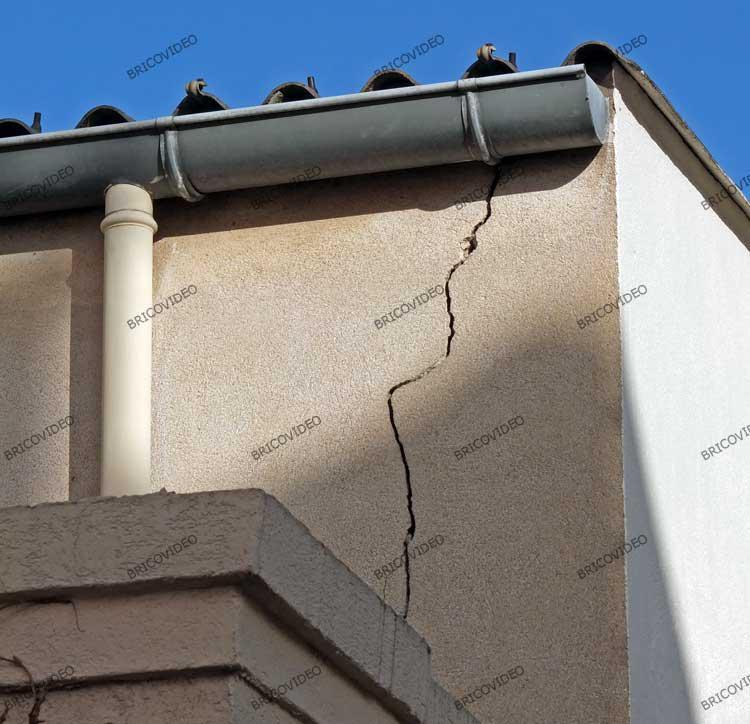crack: (387, 165, 507, 620), (1, 598, 87, 633), (29, 675, 85, 724), (0, 700, 16, 724)
